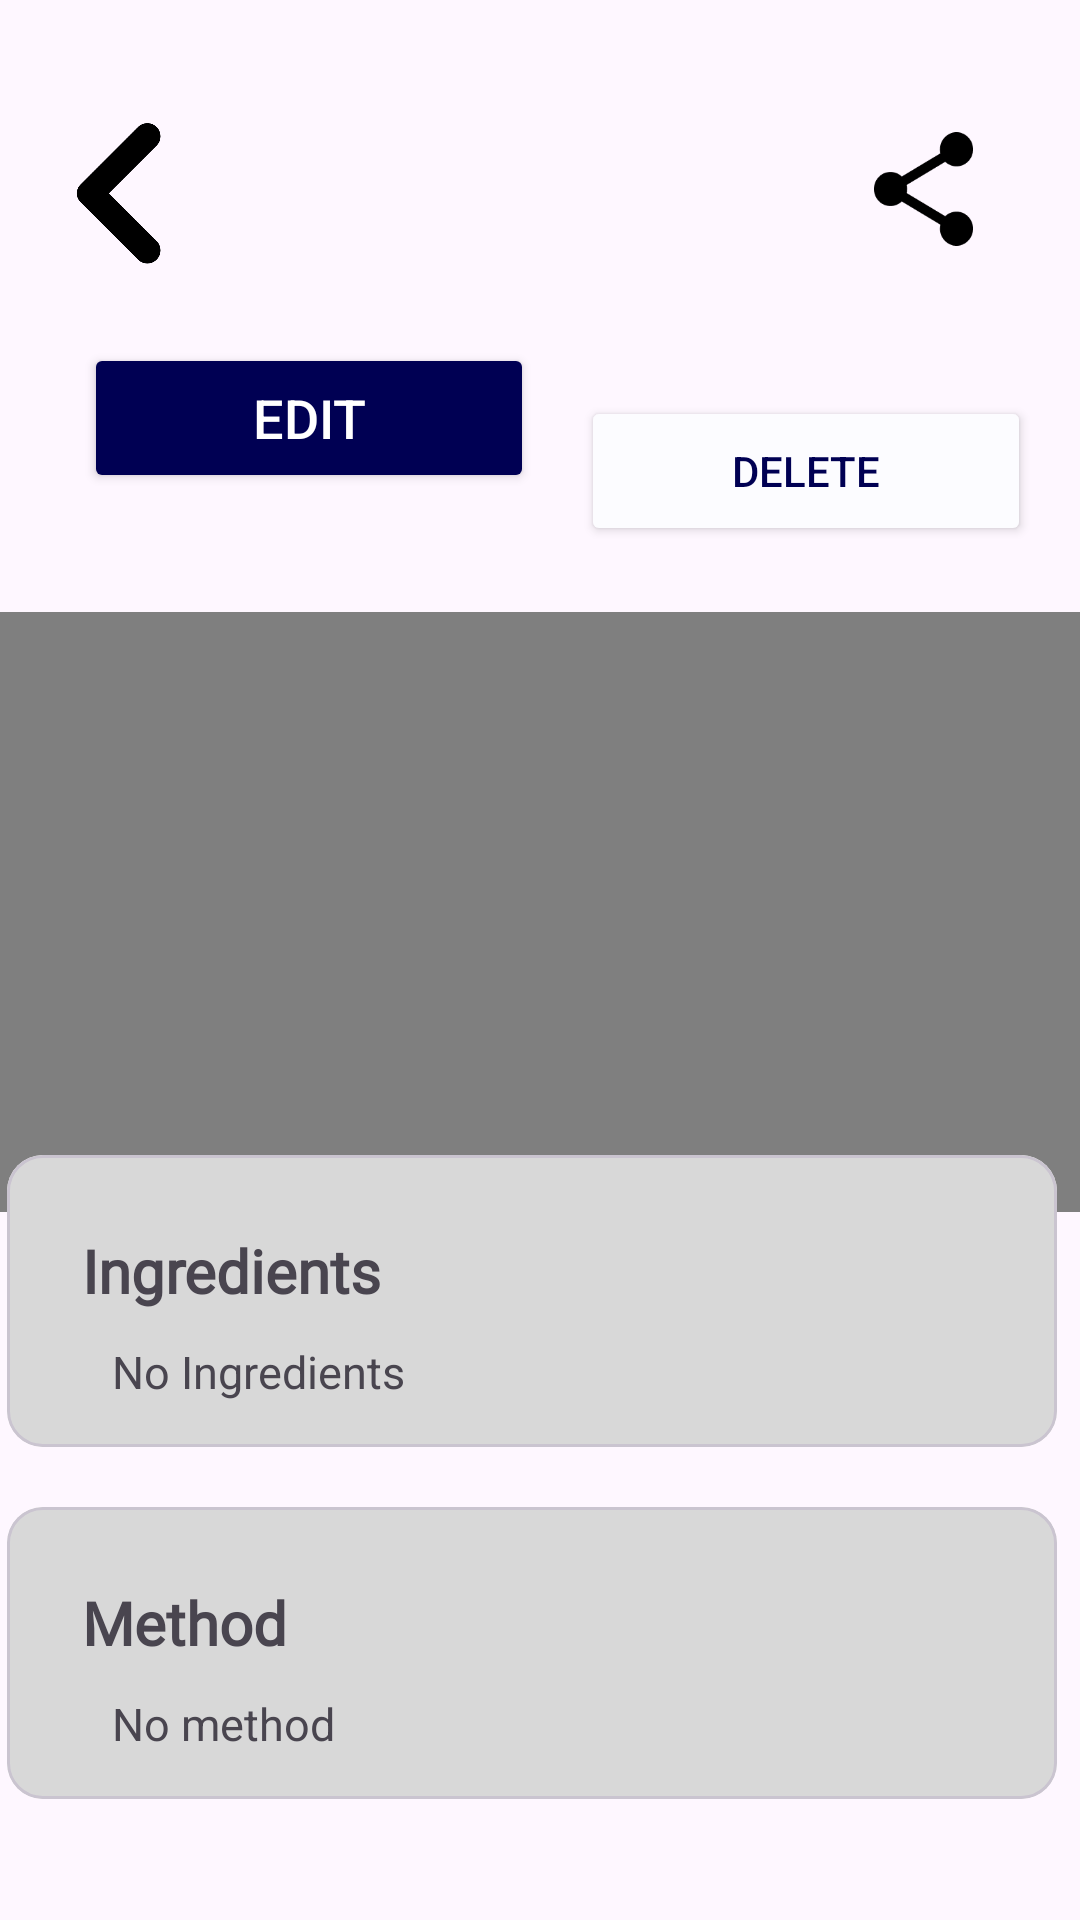

Icons on this 1080x1920 Android screen, each with the point to tap as (x=x, y=y):
back: (x=119, y=193)
share: (x=923, y=189)
